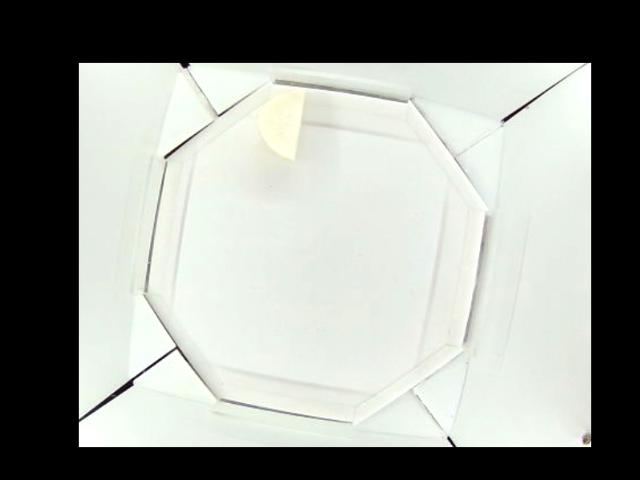Mooli: (261, 88, 306, 163)
